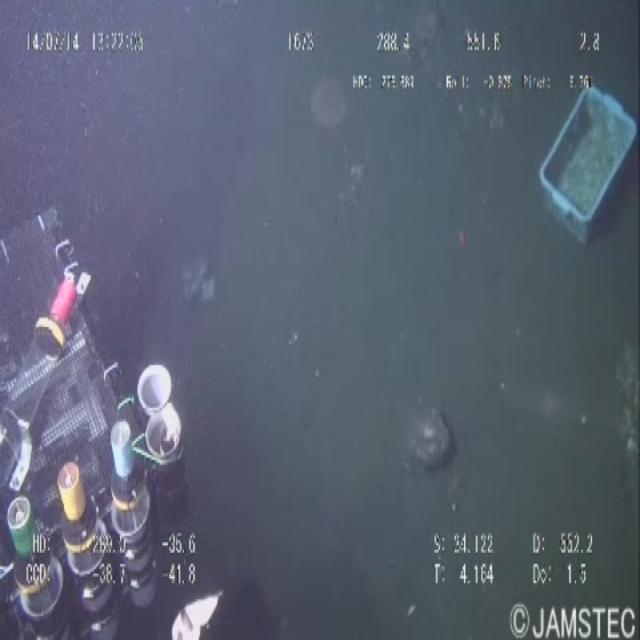Cutlery: (537, 62, 640, 270)
Litter: (405, 386, 462, 485)
